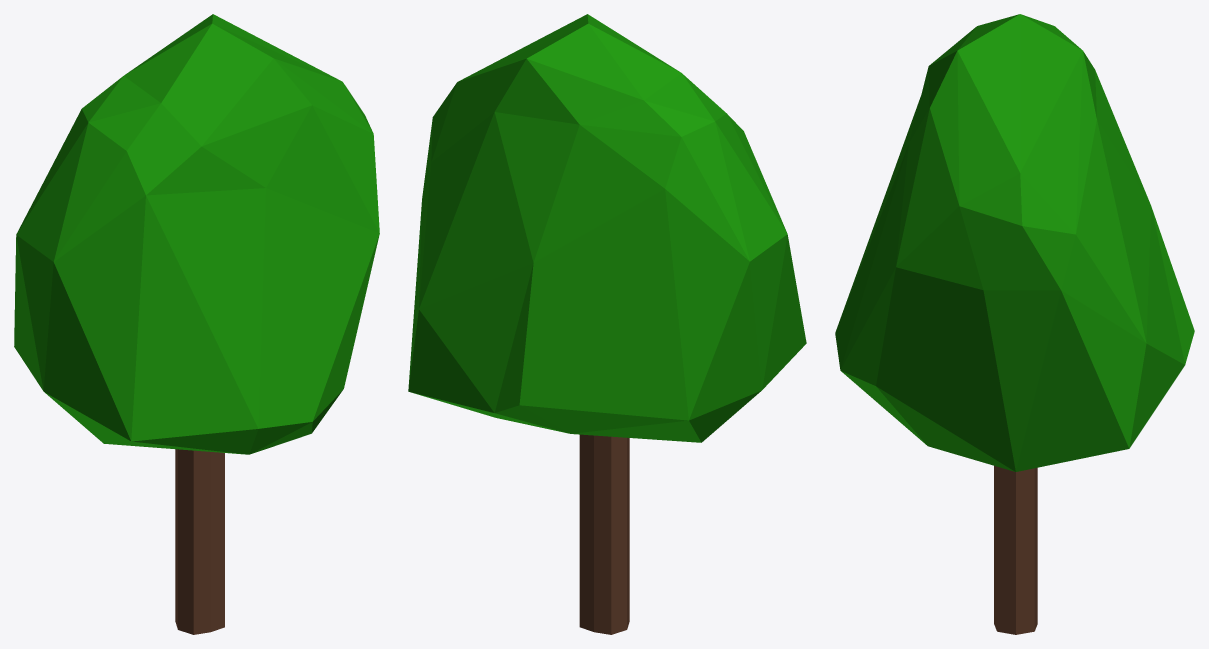
Rendered from tree1.fbx.
3 views of the same model, side by side, from view 1: azimuth 30°, elevation 25°; view 2: azimuth 150°, elevation 25°; view 3: azimuth 270°, elevation 25° (orthographic). The views are drawn at different scales.
Parts seen in each view (by area): view 1: Cube; view 2: Cube; view 3: Cube.
Part boxes in pixels (x1,y1,x2,y2): Cube: (14,14,379,634); Cube: (408,14,806,634); Cube: (835,14,1194,634).
Bounding box in the file's own units: 316 × 542 × 286.
